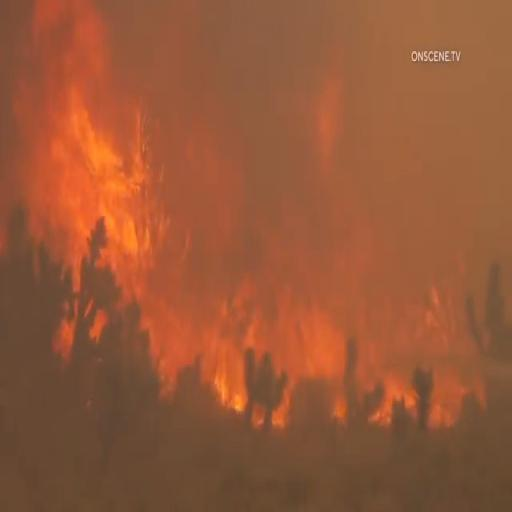fire: (26, 15, 192, 369)
